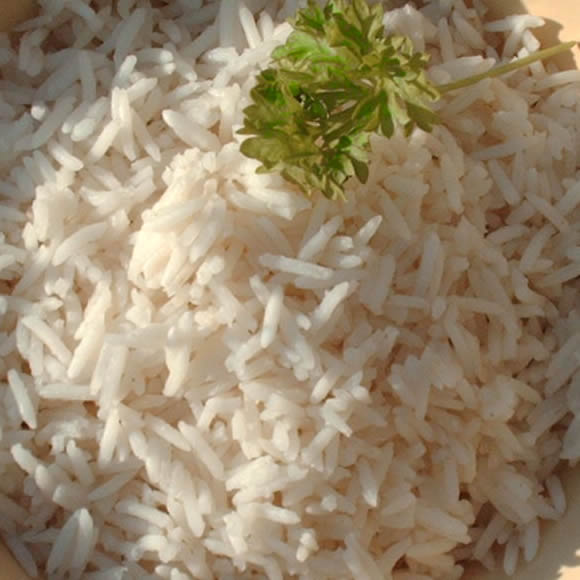plain rice: (48, 56, 540, 565)
